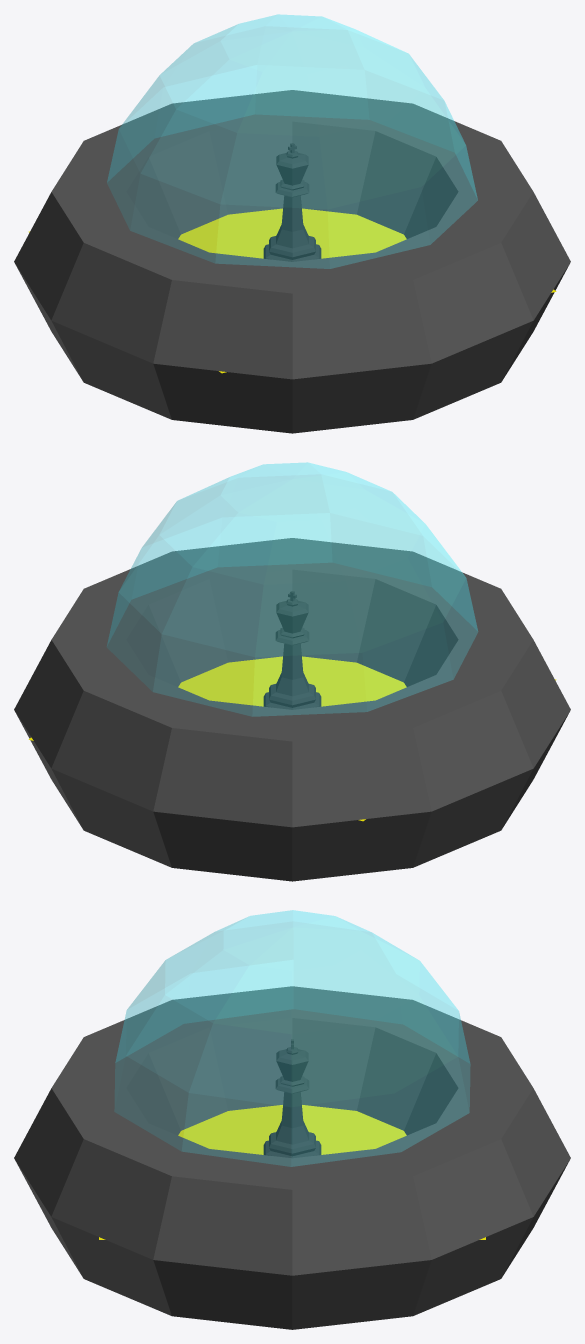
Rendered from Black King Base.glb.
The picture shows the model from 3 angles, top to bottom: view 1: azimuth 30°, elevation 25°; view 2: azimuth 150°, elevation 25°; view 3: azimuth 270°, elevation 25°; orthographic projection.
Parts seen in each view (by area): view 1: Torus, Sphere, Plane, King; view 2: Torus, Sphere, Plane, King; view 3: Torus, Sphere, Plane, King.
Boxes of the visible parts, x1=… form: Torus: x1=14, y1=90, x2=570, y2=433; Sphere: x1=107, y1=14, x2=477, y2=268; Plane: x1=28, y1=208, x2=556, y2=373; King: x1=263, y1=143, x2=321, y2=261; Torus: x1=14, y1=538, x2=570, y2=881; Sphere: x1=107, y1=462, x2=477, y2=716; Plane: x1=28, y1=656, x2=556, y2=821; King: x1=263, y1=591, x2=321, y2=709; Torus: x1=14, y1=986, x2=570, y2=1329; Sphere: x1=114, y1=910, x2=470, y2=1166; Plane: x1=99, y1=1105, x2=485, y2=1239; King: x1=263, y1=1039, x2=321, y2=1158.
Size of the model in its own units: 7.36 by 5 by 7.36.
